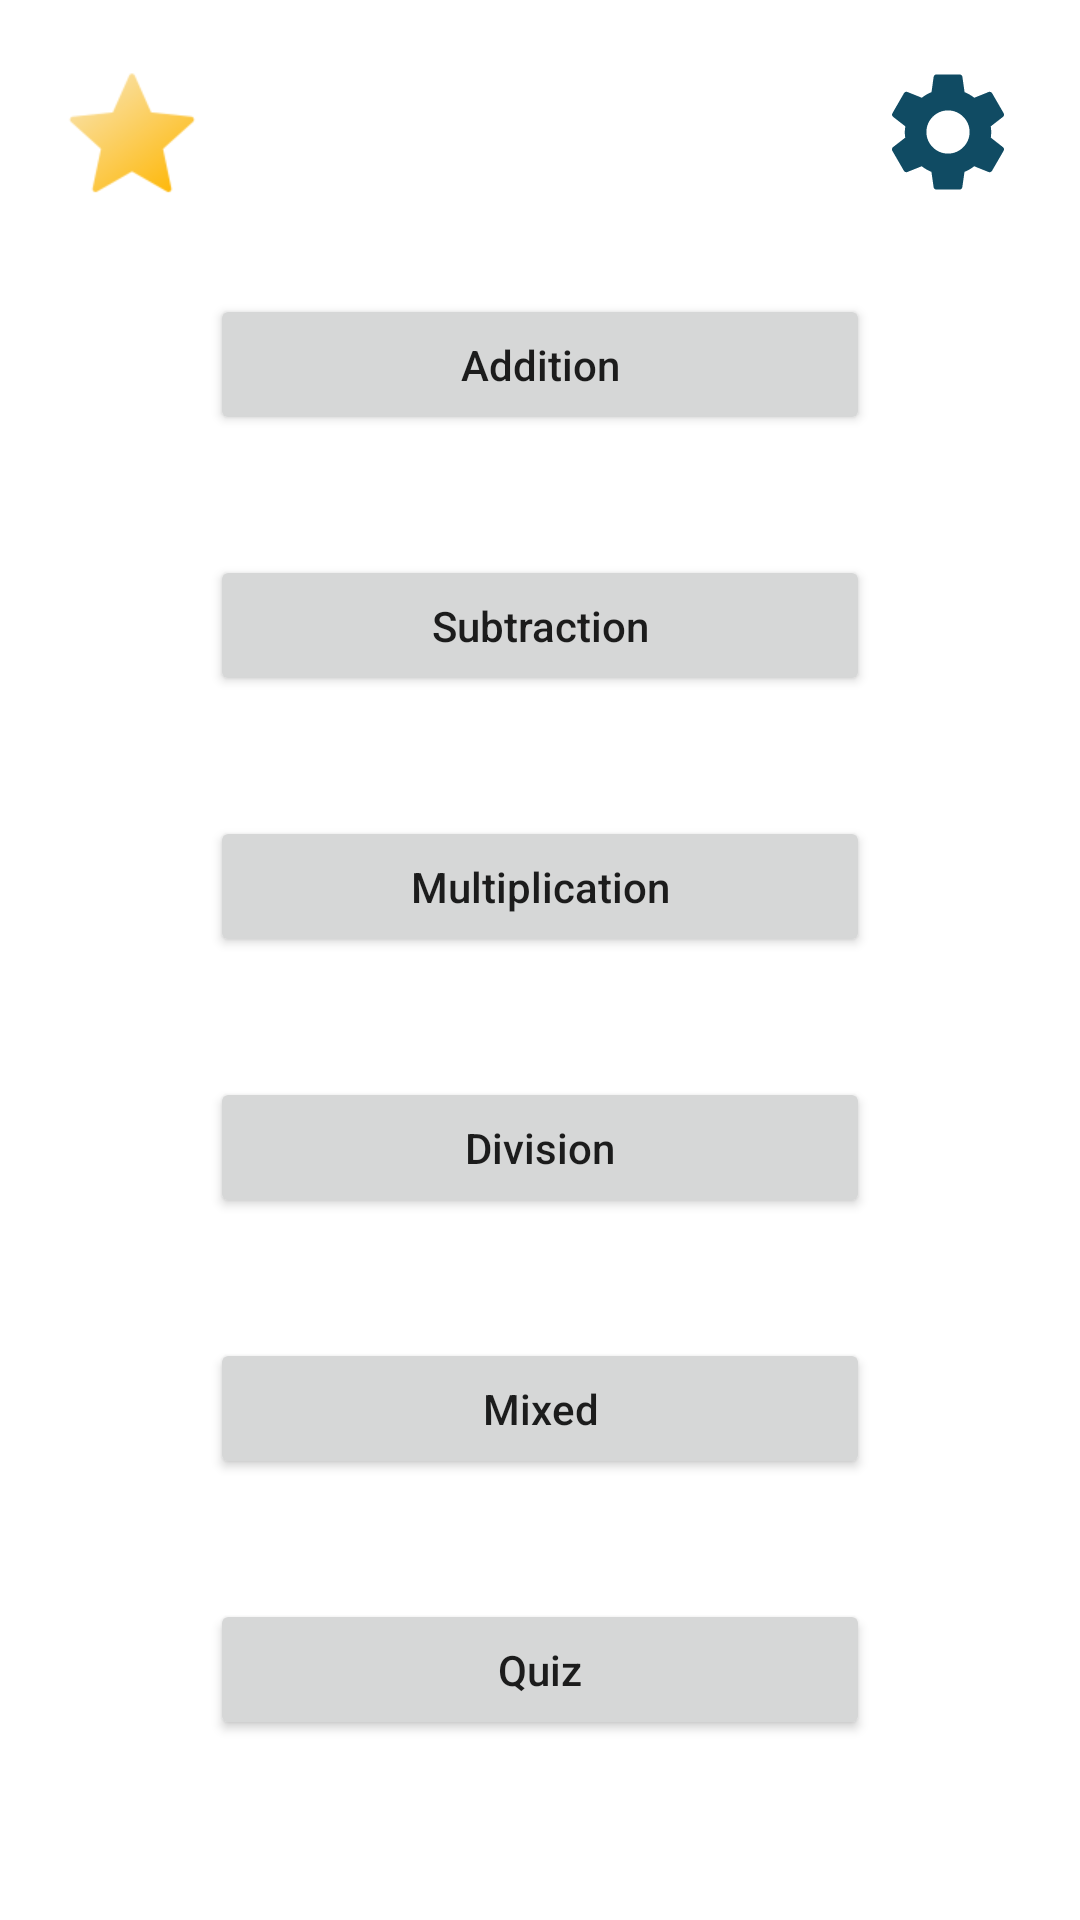

Where to tap for icons on this 1080w x 1920h app screen, as point (x, y):
settings: point (948, 132)
stars: point (132, 133)
